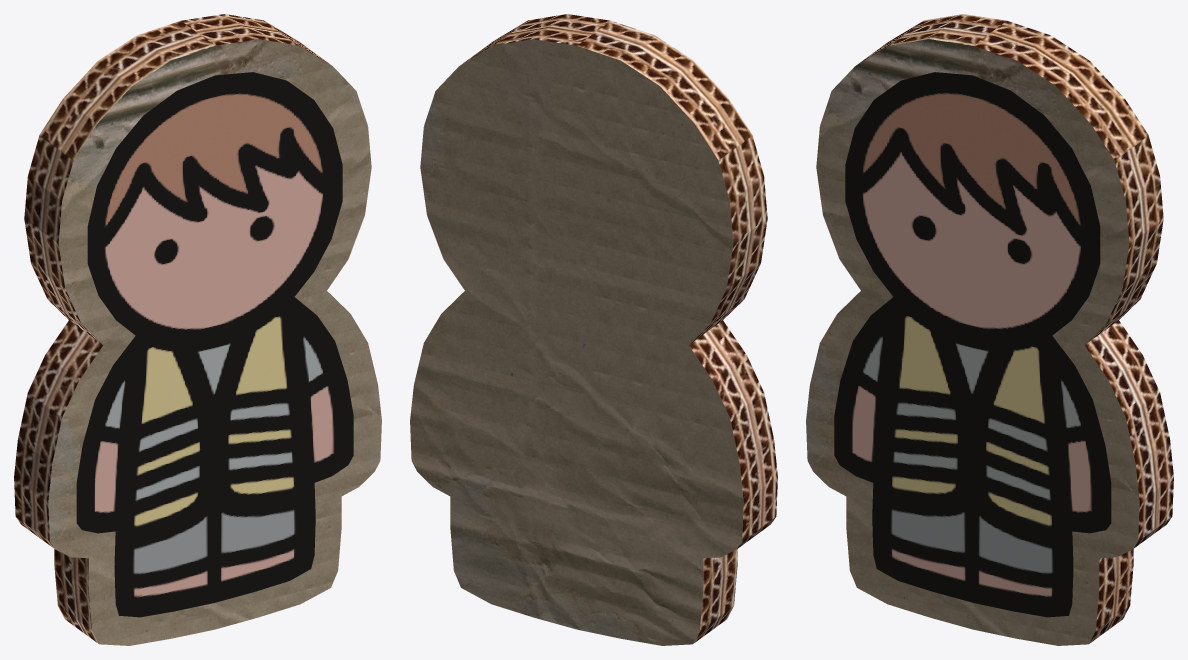
File: character1.fbx
3 renders of one model, left to right at view 1: azimuth 30°, elevation 25°; view 2: azimuth 150°, elevation 25°; view 3: azimuth 330°, elevation 25°, orthographic.
Visible parts, largest first — view 1: char1; view 2: char1; view 3: char1.
Boxes of the visible parts, x1,y1,x2,y2 form: char1: (14,14,381,645); char1: (410,14,777,645); char1: (806,14,1173,645).
Size of the model in its own units: 44.98 by 75.18 by 8.
